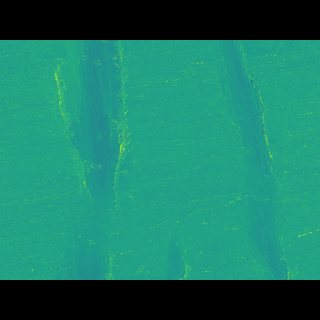Loch: (208, 70, 319, 250), (31, 69, 134, 250), (158, 208, 191, 250)
